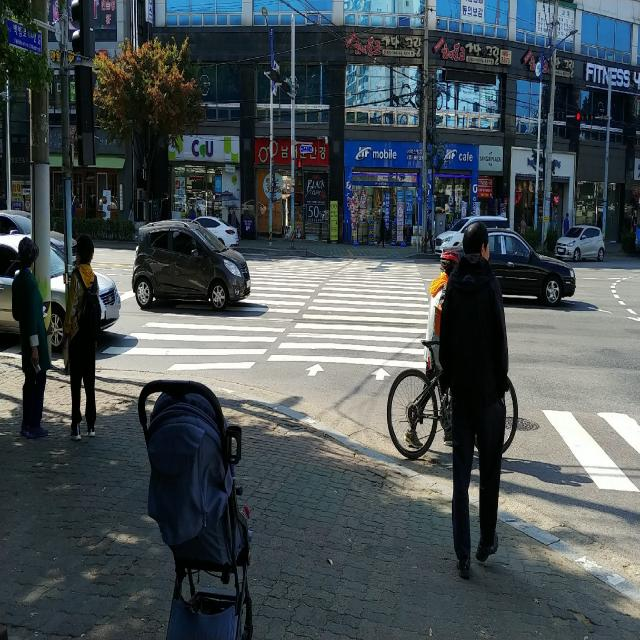빨간불: (297, 158, 303, 186)
횡단보도: (96, 235, 456, 373)
